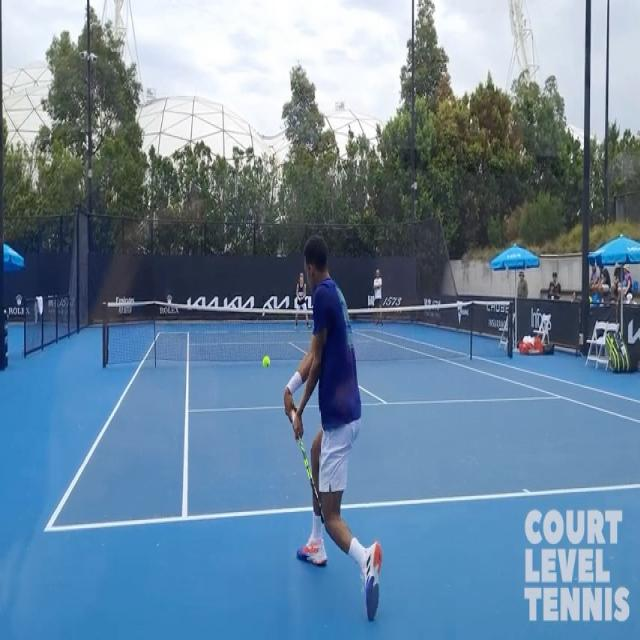backhand-stroke: (267, 224, 395, 636)
